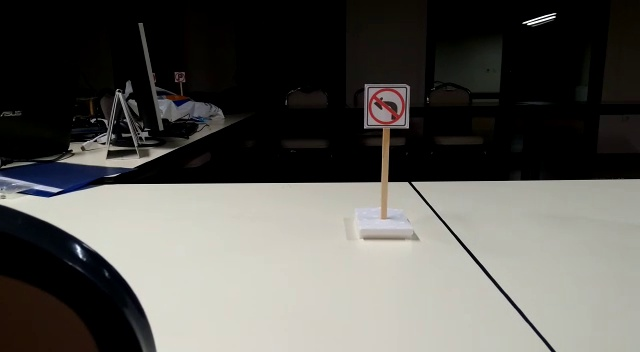sola_donulmez: (367, 83, 407, 125)
